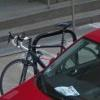Bicycle: (3, 24, 78, 87)
